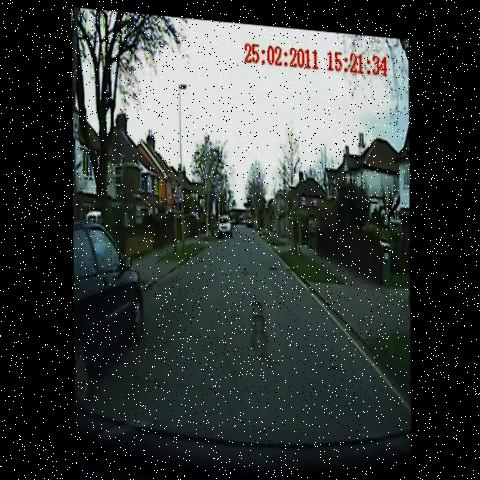pothole: (246, 286, 277, 378), (237, 258, 254, 286), (327, 354, 342, 375), (264, 251, 277, 272)
